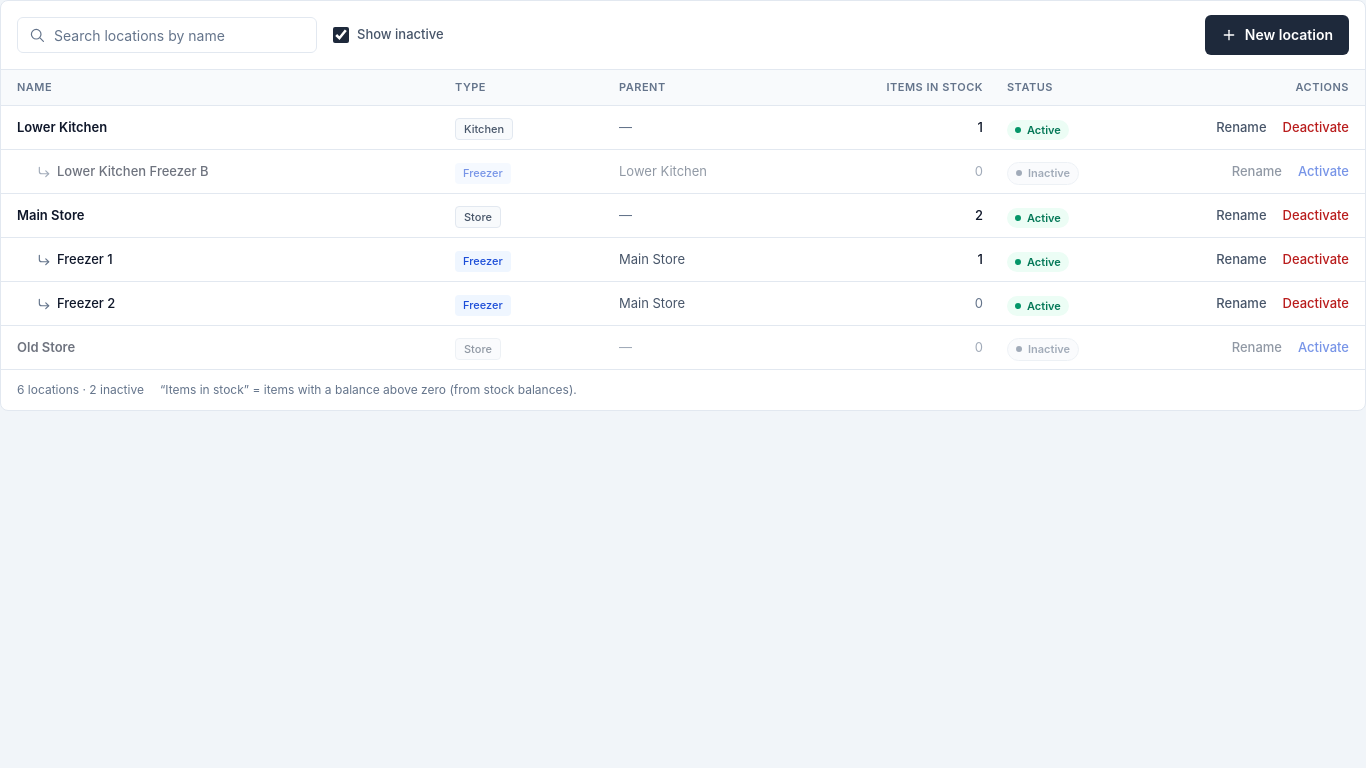
Test: StockLocationsPage (UI-STOCK-002, desktop) › deactivates an empty location after confirmation (L4), sending only active=false
The width and height of the screenshot is (1366, 768).
Expected: the table is shown, [1,69,1365,370]
Click the button with aria-label "Deactivate Freezer 2" at (1316, 304), box [1283,294,1349,313]
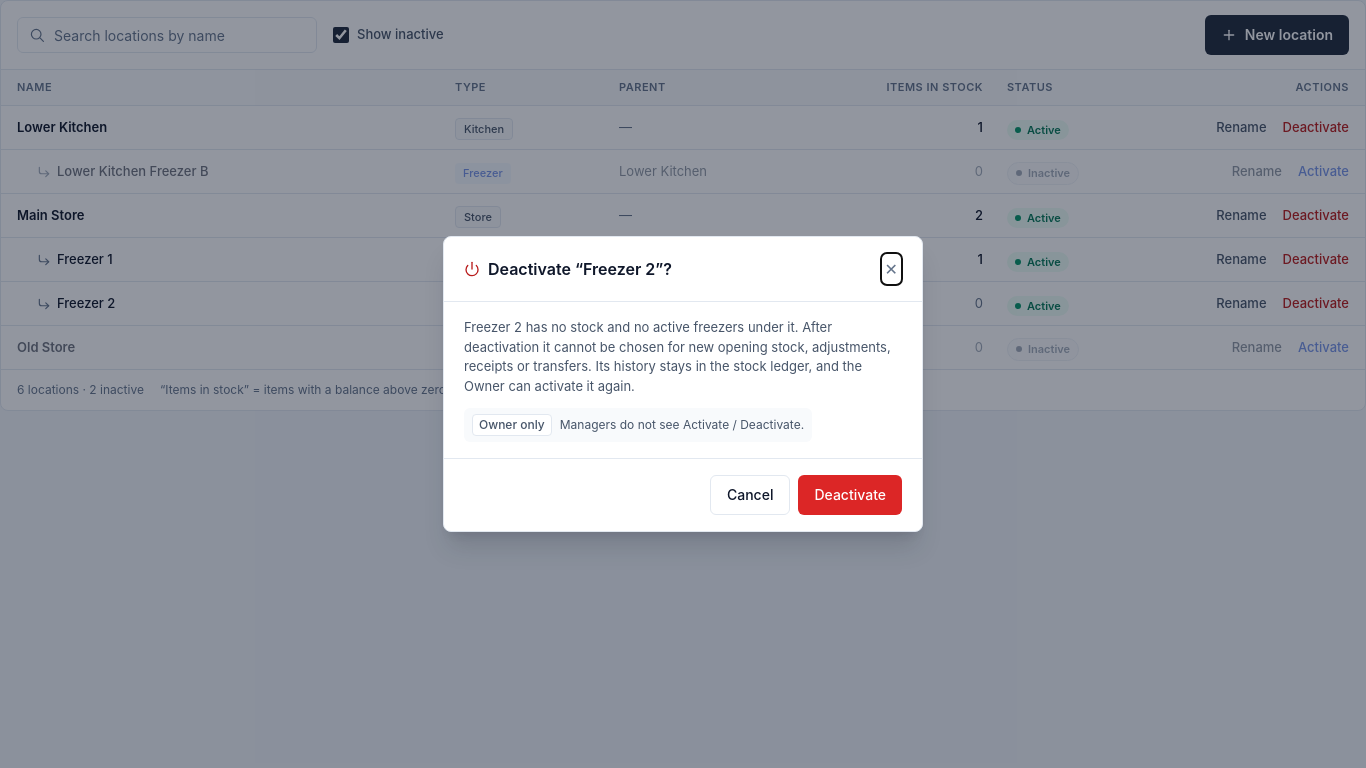
Now the text "has no stock and no active freezers under it" is shown, box [464,319,891,394]
Click the button "Deactivate" at (850, 495), box [798,475,902,515]
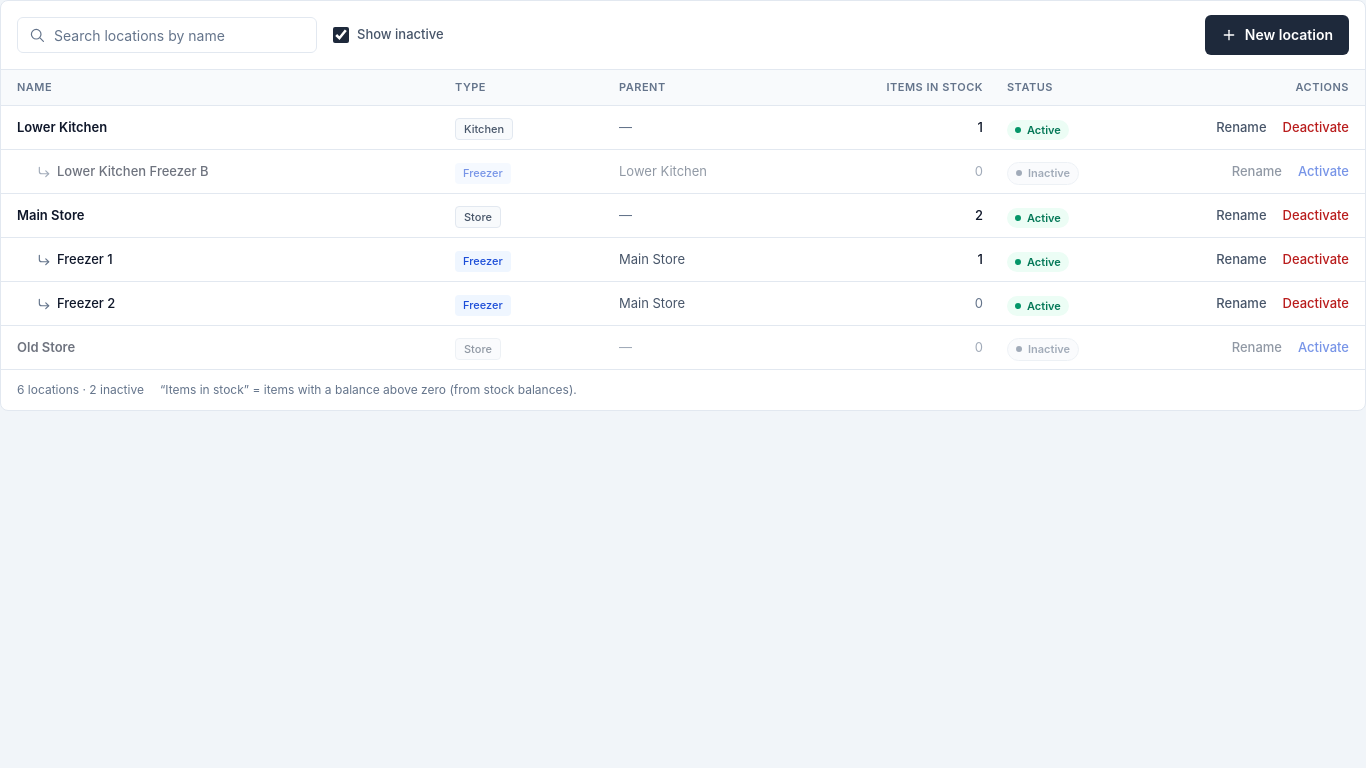
Now the dialog is gone
